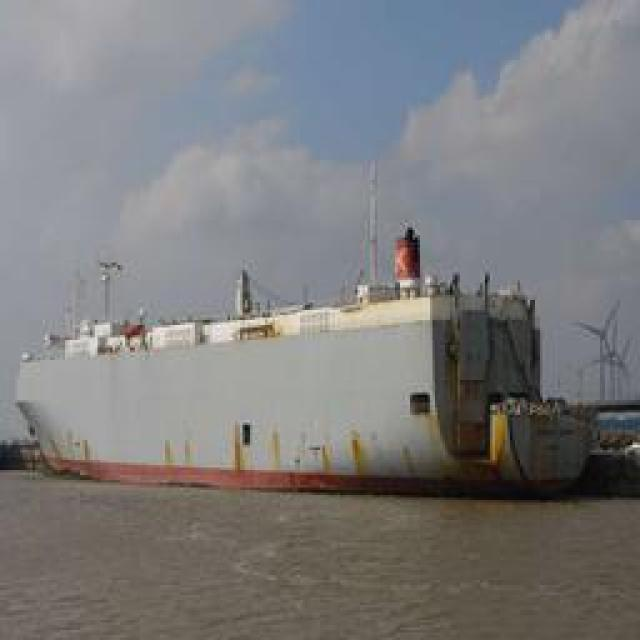CIV_Ship: (14, 278, 598, 494)
